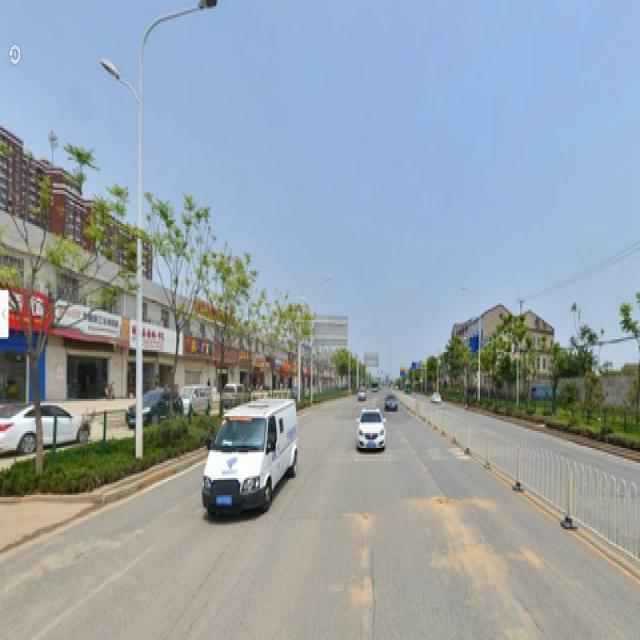koel: (20, 198, 93, 448), (151, 192, 193, 412), (210, 262, 238, 422), (251, 298, 273, 379), (291, 309, 301, 372)
